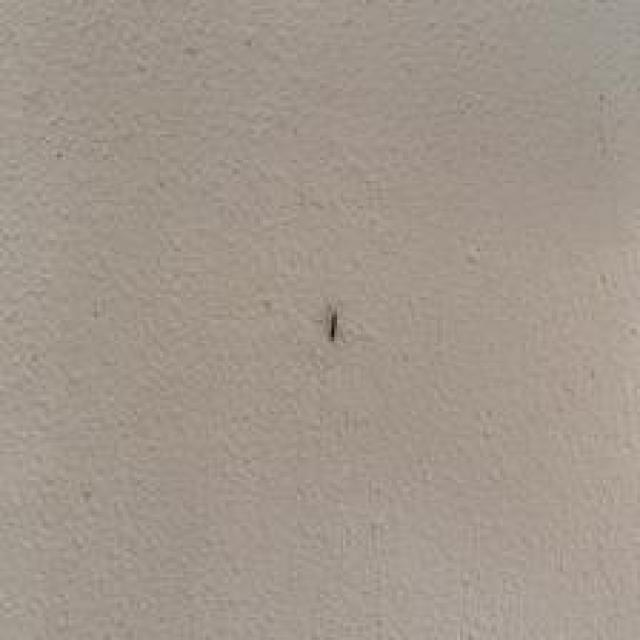Culex: (327, 307, 339, 342)
